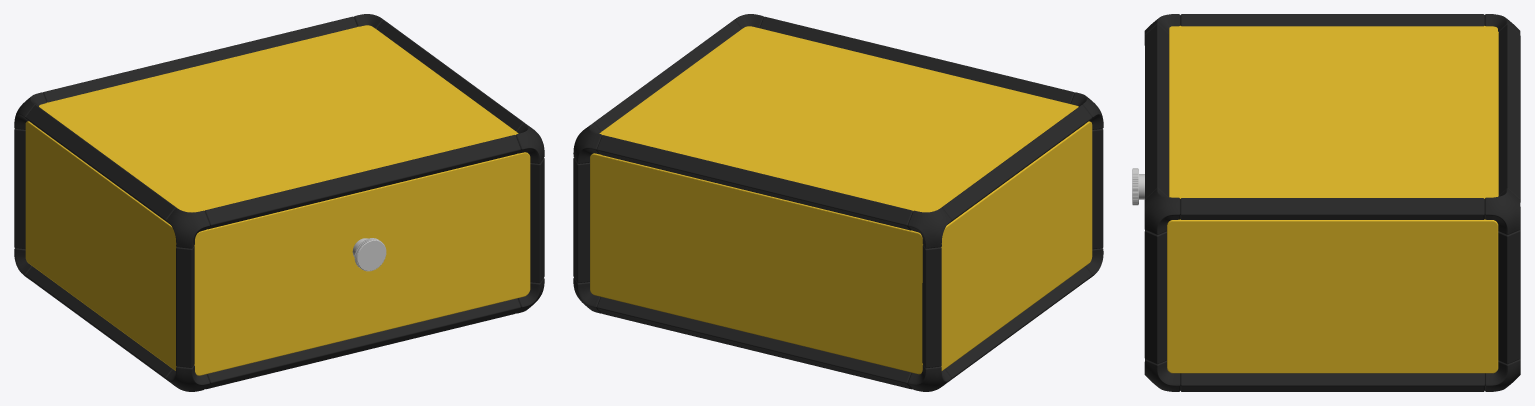
The picture shows the model from 3 angles, left to right: view 1: azimuth 30°, elevation 25°; view 2: azimuth 150°, elevation 25°; view 3: azimuth 270°, elevation 25°; orthographic projection. The views are drawn at different scales.
Parts seen in each view (by area): view 1: 420x329x154; view 2: 420x329x154; view 3: 420x329x154.
Boxes of the visible parts, <box> form: 420x329x154: <box>14,14,544,391</box>; 420x329x154: <box>573,14,1103,391</box>; 420x329x154: <box>1132,14,1520,391</box>.
Bounding box in the file's own units: 0.4977 × 0.2316 × 0.4196.
